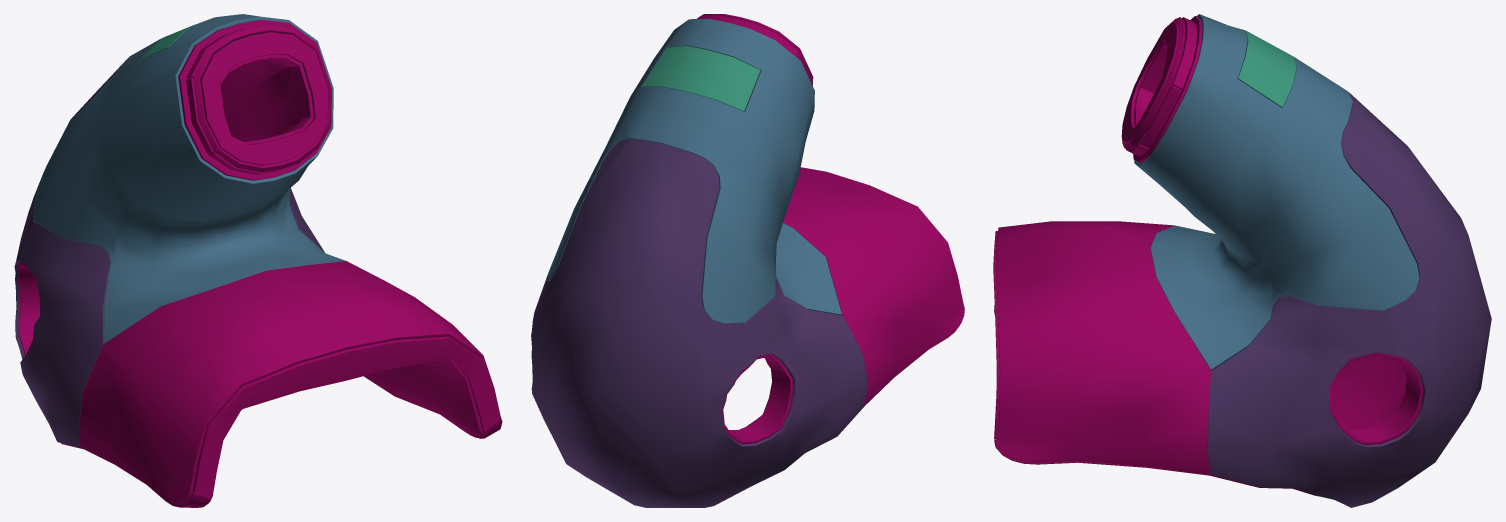
The model's file is vrControl_161.fbx.
The picture shows the model from 3 angles, left to right: view 1: azimuth 30°, elevation 25°; view 2: azimuth 150°, elevation 25°; view 3: azimuth 270°, elevation 25°; orthographic projection. The views are drawn at different scales.
Parts seen in each view (by area): view 1: Cube.012_Plate; view 2: Cube.012_Plate; view 3: Cube.012_Plate.
Part boxes in pixels (x1,y1,x2,y2): Cube.012_Plate: [14, 14, 502, 507]; Cube.012_Plate: [531, 14, 964, 507]; Cube.012_Plate: [993, 14, 1491, 507].
Bounding box in the file's own units: 1.07 × 1.49 × 1.52.
